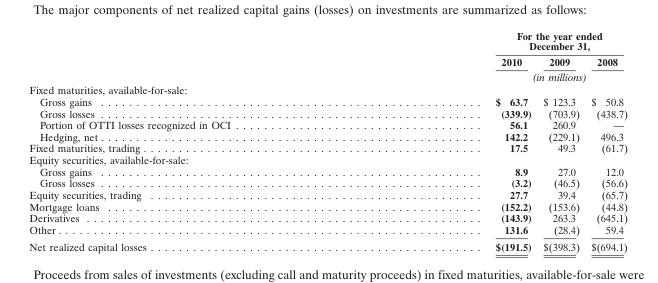table: (28, 29, 626, 252)
table column: (28, 29, 362, 252), (362, 29, 536, 252), (536, 29, 584, 252), (584, 29, 626, 252)
table column header: (28, 29, 626, 83)
table projected row header: (28, 83, 626, 95), (28, 153, 626, 165)
table row: (28, 29, 626, 53), (28, 53, 626, 68), (28, 68, 626, 83), (28, 237, 626, 252), (28, 223, 626, 237), (28, 83, 626, 95), (28, 95, 626, 107), (28, 118, 626, 130), (28, 141, 626, 153), (28, 153, 626, 165), (28, 176, 626, 188), (28, 188, 626, 200), (28, 211, 626, 223), (28, 107, 626, 118), (28, 130, 626, 141), (28, 165, 626, 176), (28, 200, 626, 211)
table spanning cell: (362, 29, 626, 53), (362, 68, 626, 83)
